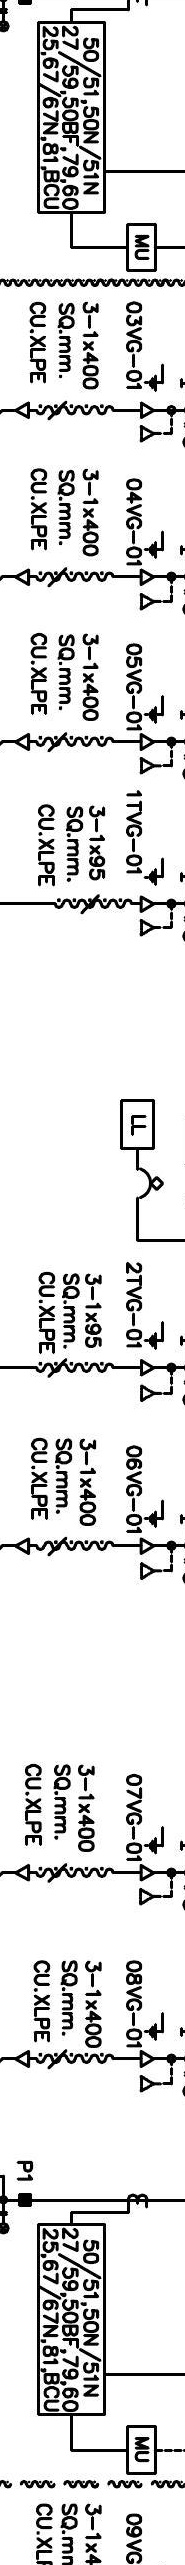22_gs: (144, 694, 183, 725), (144, 1320, 183, 1351), (144, 1498, 183, 1530), (144, 363, 183, 393), (144, 530, 183, 559), (144, 857, 183, 887), (144, 1826, 183, 1855), (144, 2012, 183, 2042)
LL: (120, 1098, 156, 1150)
MU: (126, 222, 157, 273), (126, 2424, 157, 2475)
terminator_single: (15, 401, 31, 420), (15, 568, 31, 587), (15, 733, 31, 752), (15, 1536, 31, 1556), (15, 1863, 31, 1883), (15, 2050, 31, 2069)
terminator_w_future: (139, 1536, 174, 1582), (139, 401, 174, 445), (139, 568, 174, 612), (139, 733, 174, 777), (139, 1359, 174, 1404), (139, 895, 174, 937), (139, 1863, 174, 1906), (139, 2050, 174, 2092)
